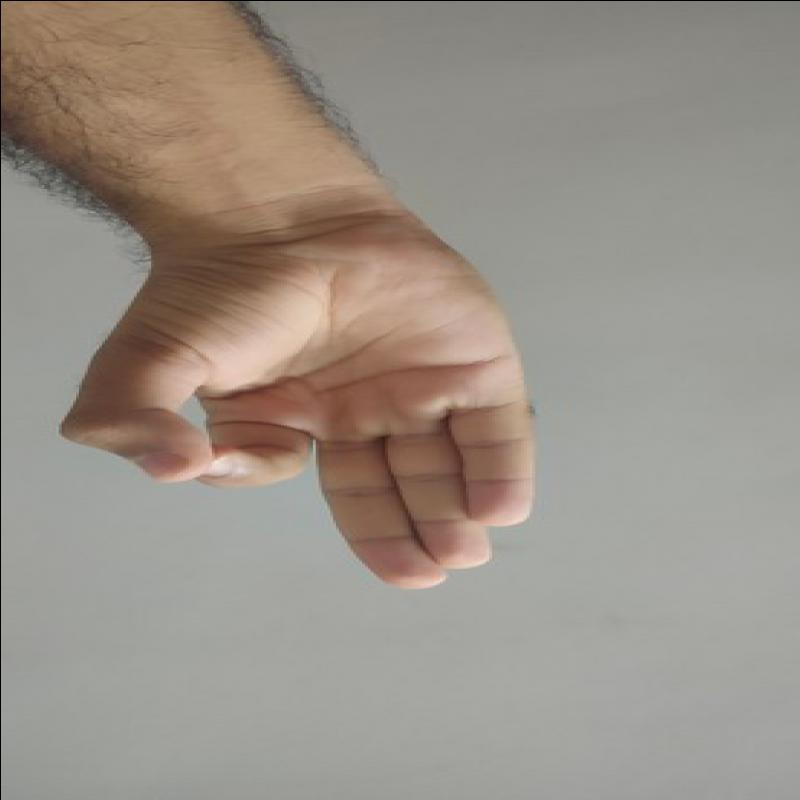Mudraakhyam: (48, 193, 586, 613)
